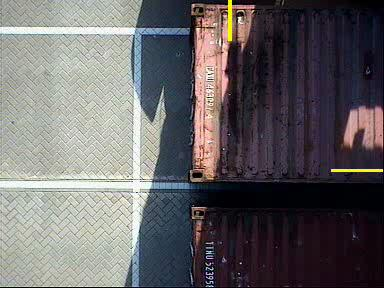groundmarker_2: (197, 56, 239, 115), (197, 229, 239, 288)
